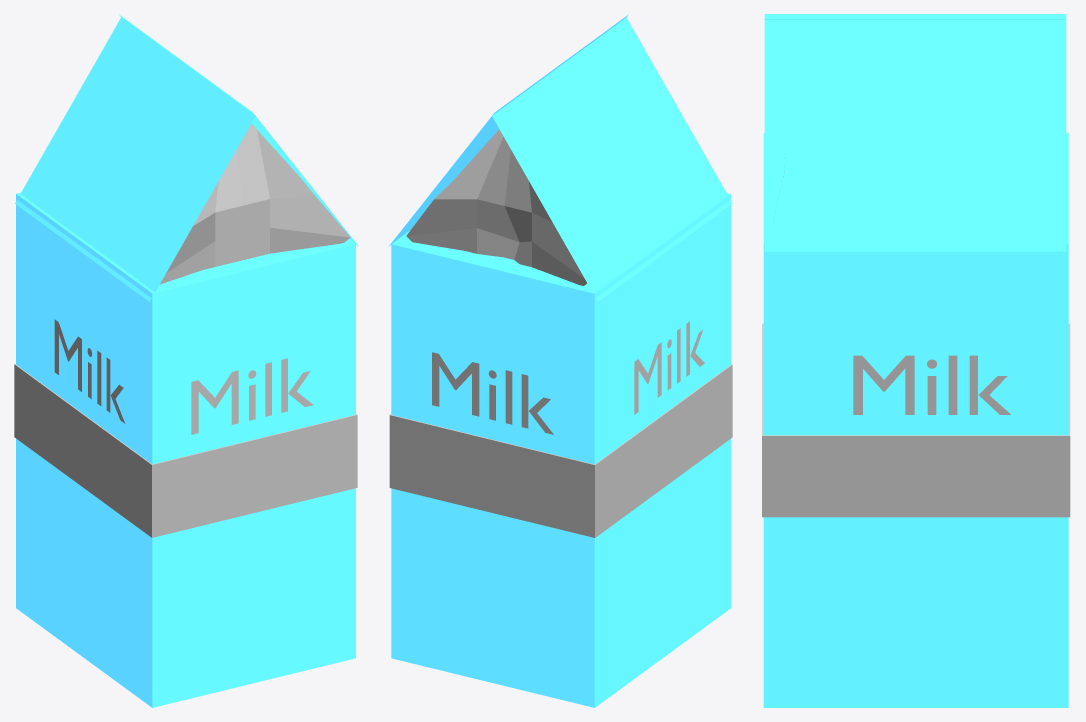
The model's file is danis milk.fbx.
3 renders of one model, left to right at view 1: azimuth 30°, elevation 25°; view 2: azimuth 150°, elevation 25°; view 3: azimuth 270°, elevation 25°, orthographic. The views are drawn at different scales.
Parts seen in each view (by area): view 1: Dani Milk; view 2: Dani Milk; view 3: Dani Milk.
Boxes of the visible parts, x1,y1,x2,y2 form: Dani Milk: (14,14,358,707); Dani Milk: (388,14,732,707); Dani Milk: (762,14,1070,707).
Bounding box in the file's own units: 105 × 270 × 119.
